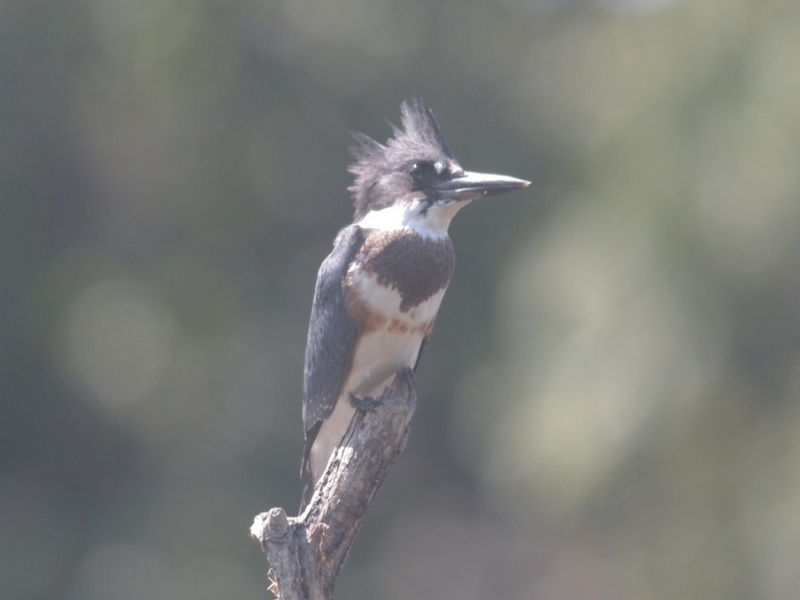kingfisher: (297, 94, 534, 509)
